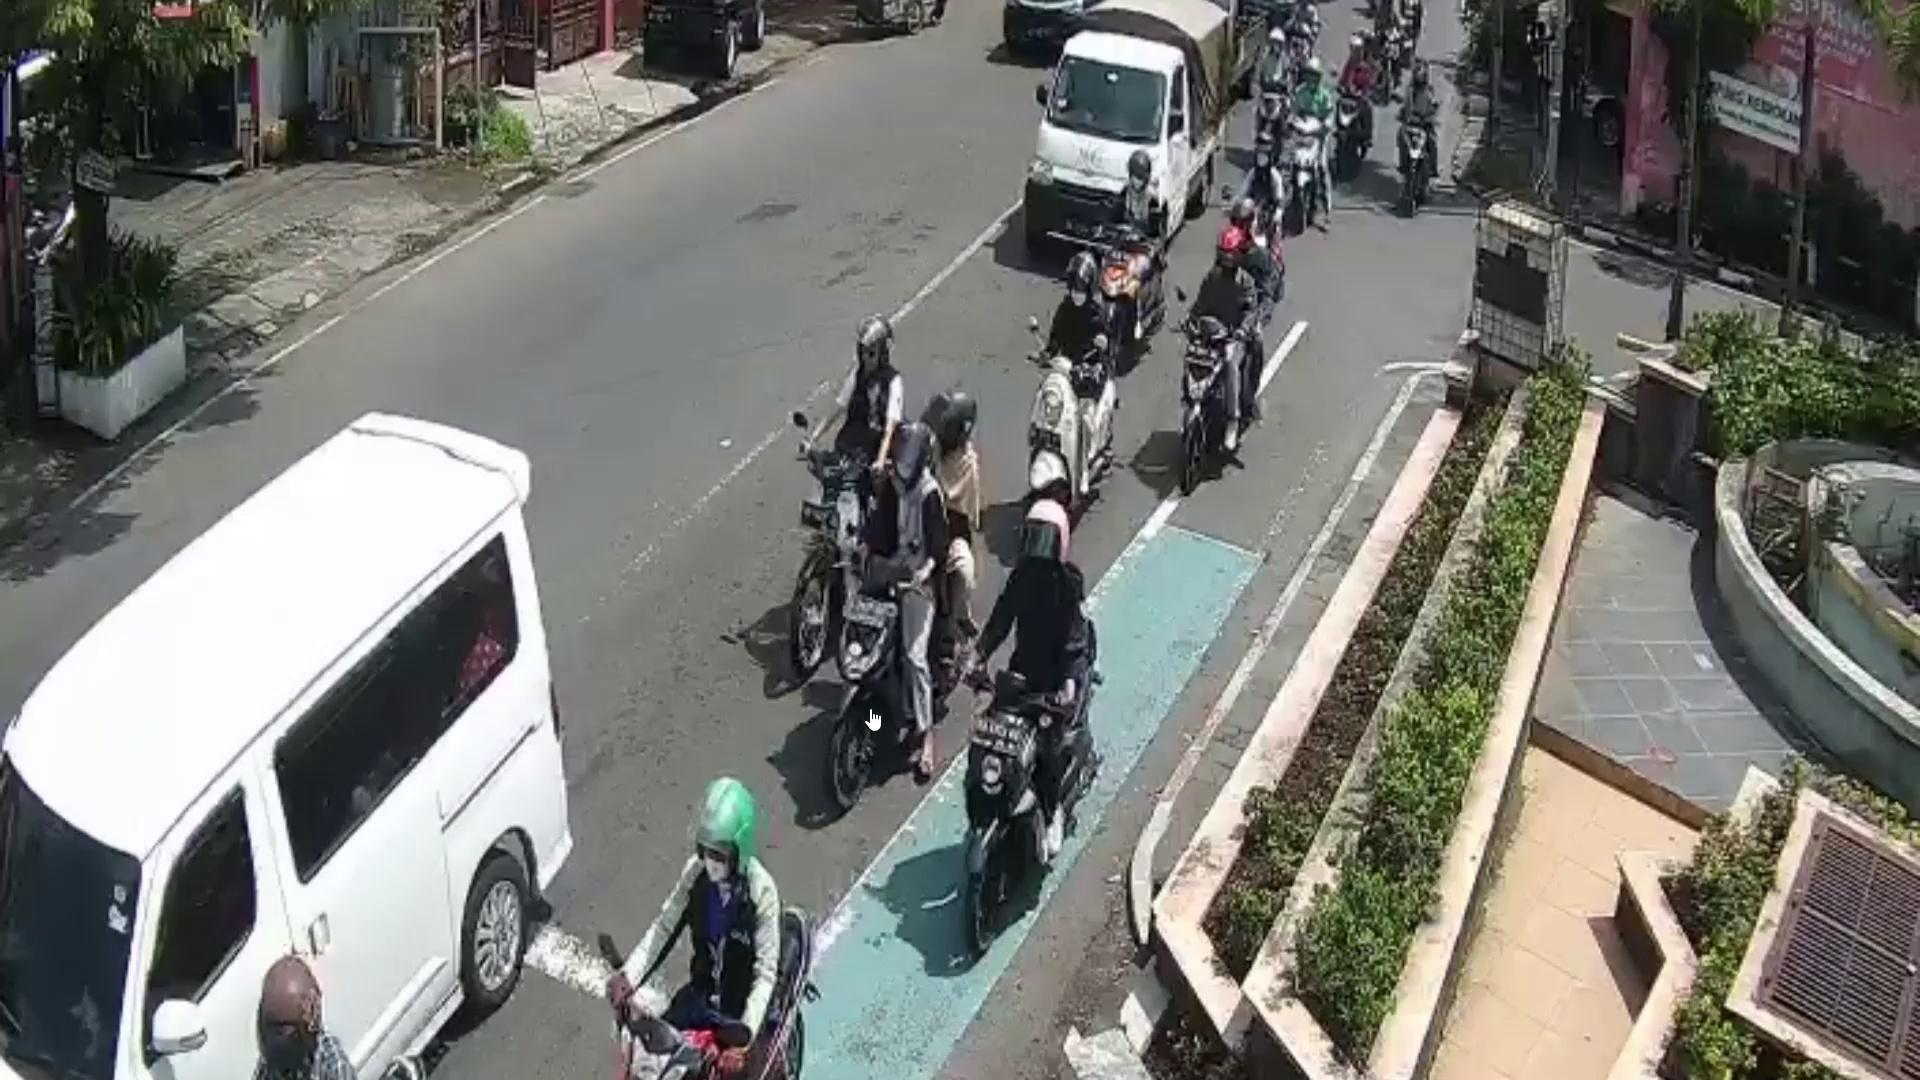car: (0, 417, 570, 1080), (1027, 28, 1229, 264)
motorbike: (964, 617, 1102, 959), (611, 903, 814, 1080), (829, 551, 914, 816), (786, 448, 876, 678), (1029, 339, 1117, 508), (1167, 315, 1236, 492), (1104, 225, 1153, 347)
